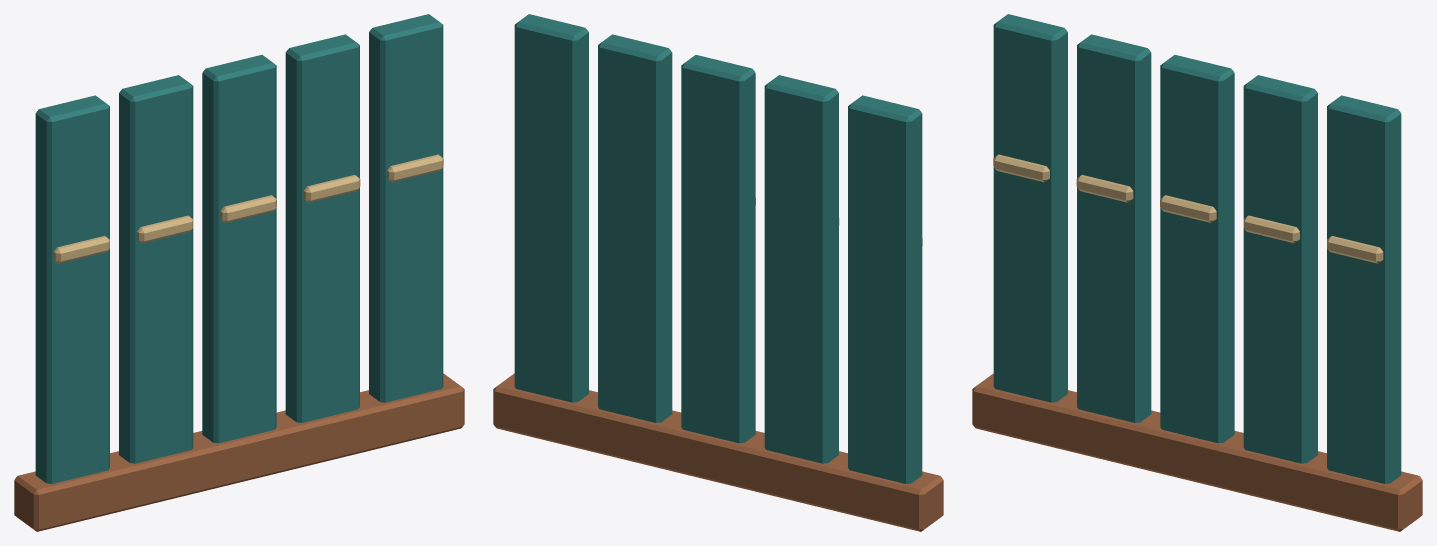
File: slats.glb
The picture shows the model from 3 angles, left to right: view 1: azimuth 30°, elevation 25°; view 2: azimuth 150°, elevation 25°; view 3: azimuth 330°, elevation 25°; orthographic projection.
Parts seen in each view (by area): view 1: Target3, Target2, Target1, Target4, Target0, Base; view 2: Target1, Target2, Target4, Target0, Target3, Base; view 3: Target1, Target2, Target3, Target0, Target4, Base.
Part boxes in pixels (<box>): Target3: <box>285,34,360,422</box>; Target2: <box>202,55,276,443</box>; Target1: <box>119,75,193,463</box>; Target4: <box>369,14,443,402</box>; Target0: <box>35,95,109,483</box>; Base: <box>14,373,464,531</box>; Target1: <box>764,75,839,463</box>; Target2: <box>681,55,755,443</box>; Target4: <box>514,14,588,402</box>; Target0: <box>848,95,922,483</box>; Target3: <box>598,34,672,422</box>; Base: <box>493,373,943,531</box>; Target1: <box>1076,34,1151,422</box>; Target2: <box>1160,55,1234,443</box>; Target3: <box>1243,75,1317,463</box>; Target0: <box>993,14,1067,402</box>; Target4: <box>1327,95,1401,483</box>; Base: <box>972,373,1422,531</box>.
Bounding box in the file's own units: 1.5 × 1.36 × 0.1425.
